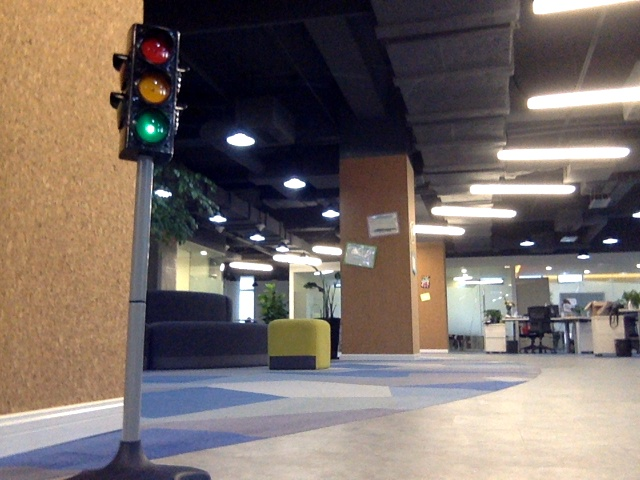green: (129, 29, 172, 145)
